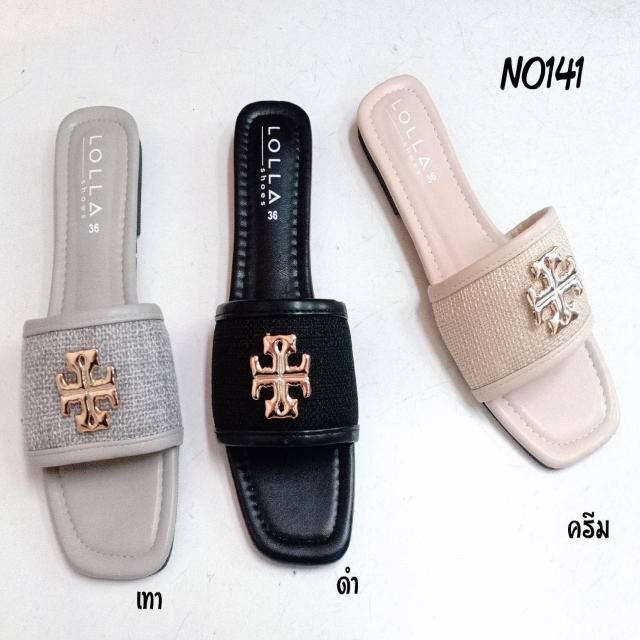black: (219, 97, 354, 562)
cream: (360, 79, 613, 462)
grey: (44, 109, 177, 576)
